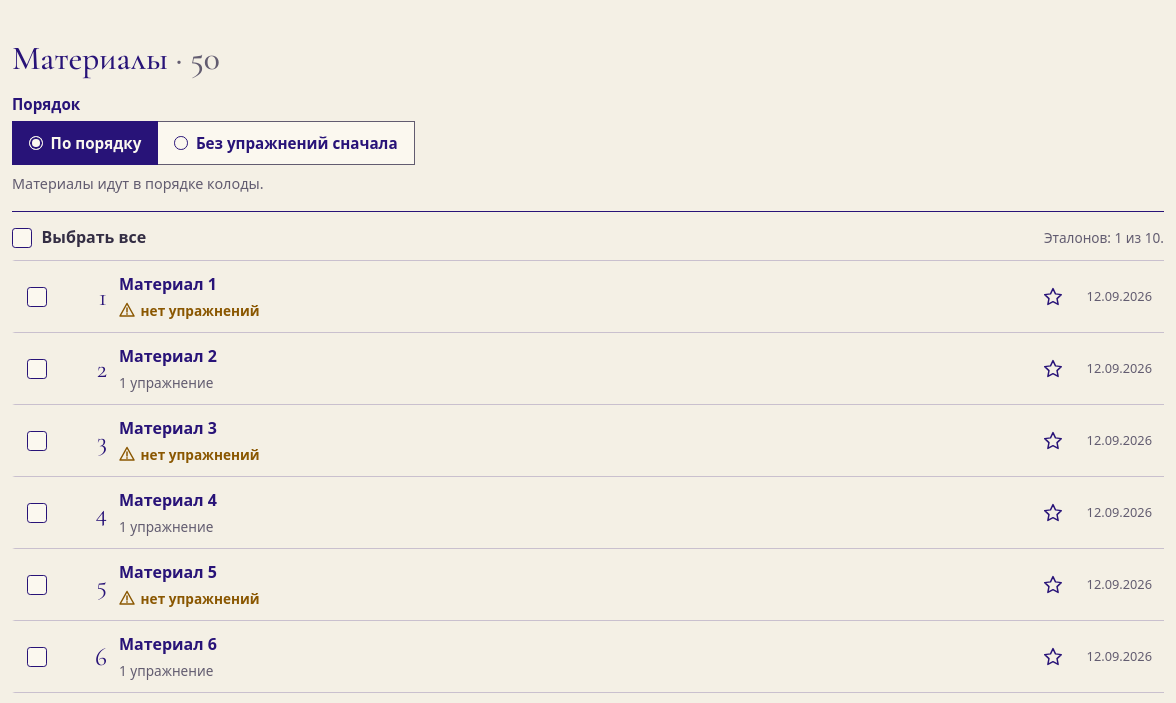
it: DeckMaterialsComponent › «Эталон» › reloads when the material changed in another tab, and reports other failures calmly
The width and height of the screenshot is (1176, 703).
Step 1. Click the 2nd button with class "star" → (1053, 368), box x1=1031 y1=346 x2=1075 y2=390
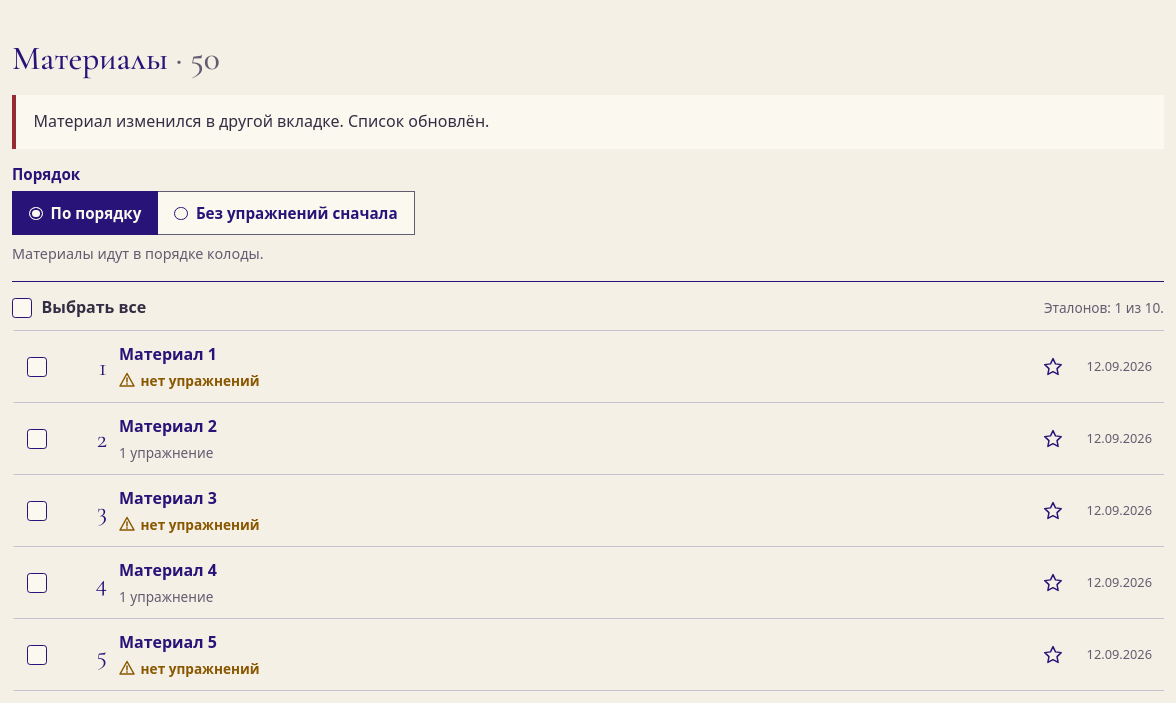
Result: the message with class "error" shows "изменился в другой вкладке" at x1=34 y1=110 x2=489 y2=132
Step 2. Click the 3rd button with class "star" → (1053, 511), box x1=1031 y1=489 x2=1075 y2=533
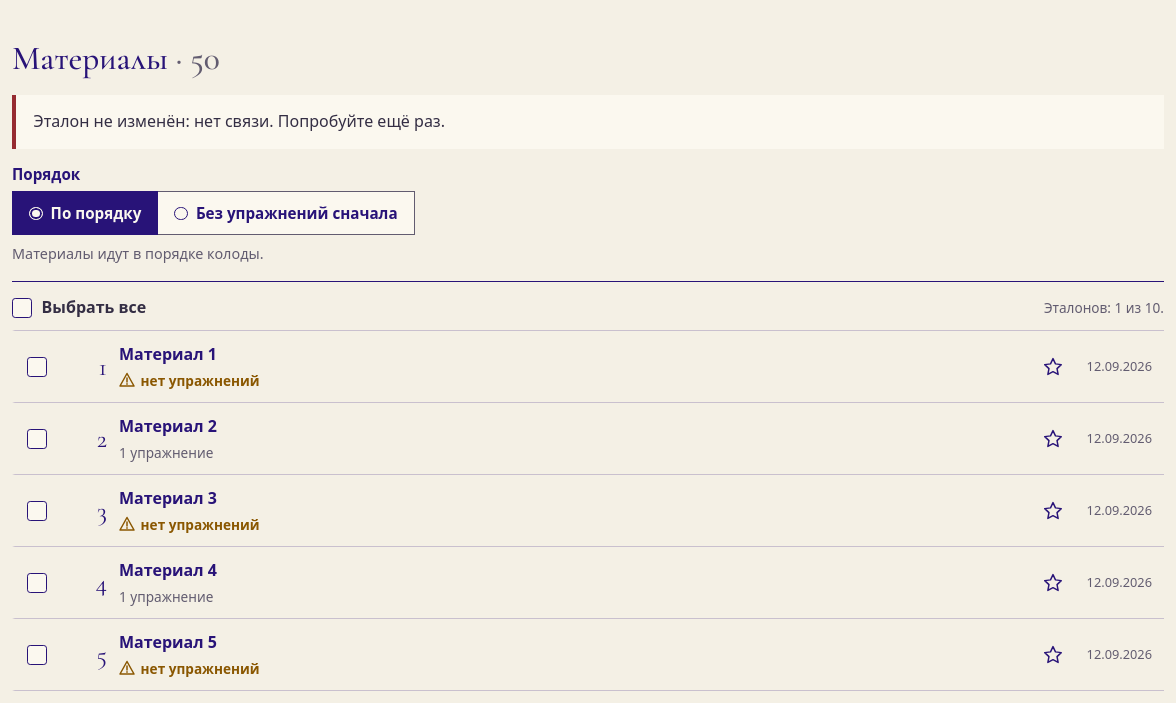
Result: the message with class "error" shows "нет связи" at x1=34 y1=110 x2=445 y2=132
